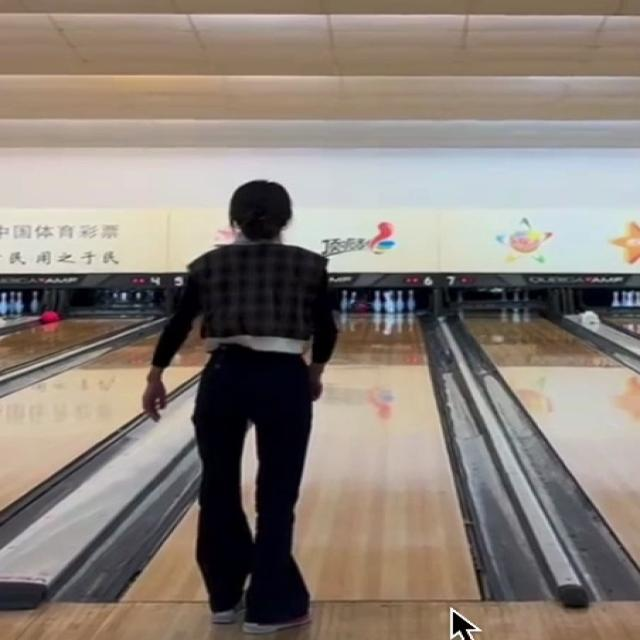alley: (295, 316, 477, 601), (126, 513, 200, 600)
balls: (353, 303, 376, 319)
bottle: (371, 290, 415, 314), (341, 290, 358, 312)
